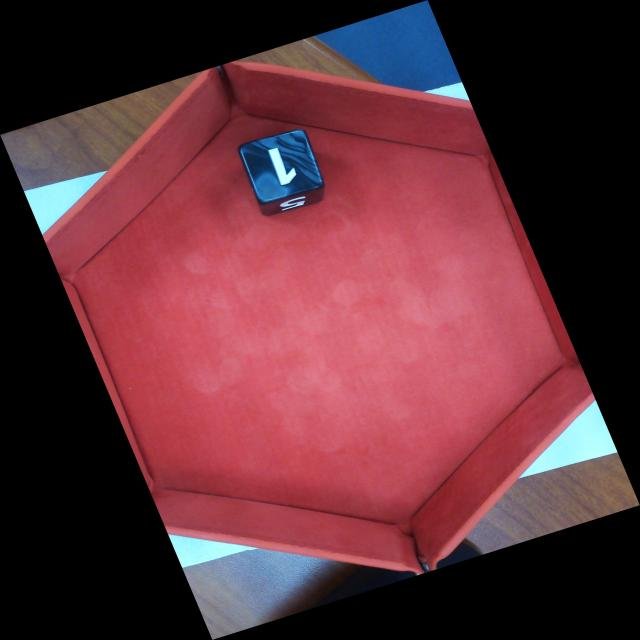dice: (239, 131, 324, 201)
